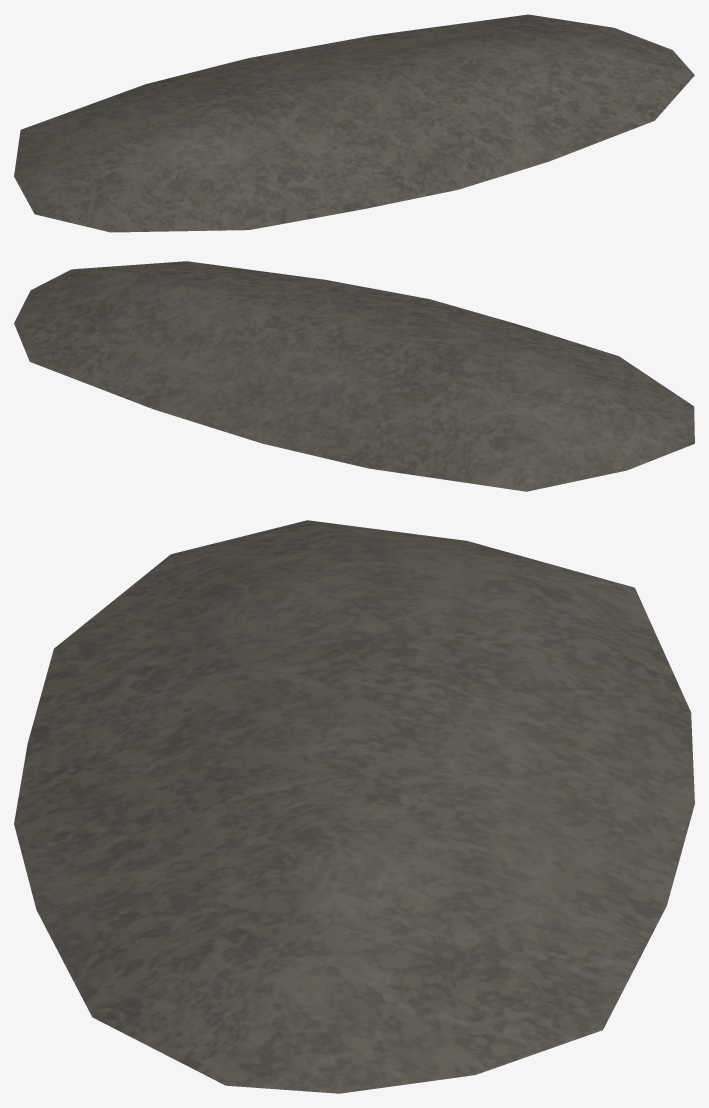
File: RuinPile_02.fbx
3 views of the same model, one above another, from view 1: azimuth 30°, elevation 25°; view 2: azimuth 150°, elevation 25°; view 3: azimuth 270°, elevation 25° (orthographic). The views are drawn at different scales.
Parts seen in each view (by area): view 1: RuinPile_02; view 2: RuinPile_02; view 3: RuinPile_02.
Boxes of the visible parts, <box> form: RuinPile_02: <box>14,14,694,232</box>; RuinPile_02: <box>14,261,694,491</box>; RuinPile_02: <box>14,520,694,1093</box>.
Size of the model in its own units: 24.04 by 1.51 by 12.07.
